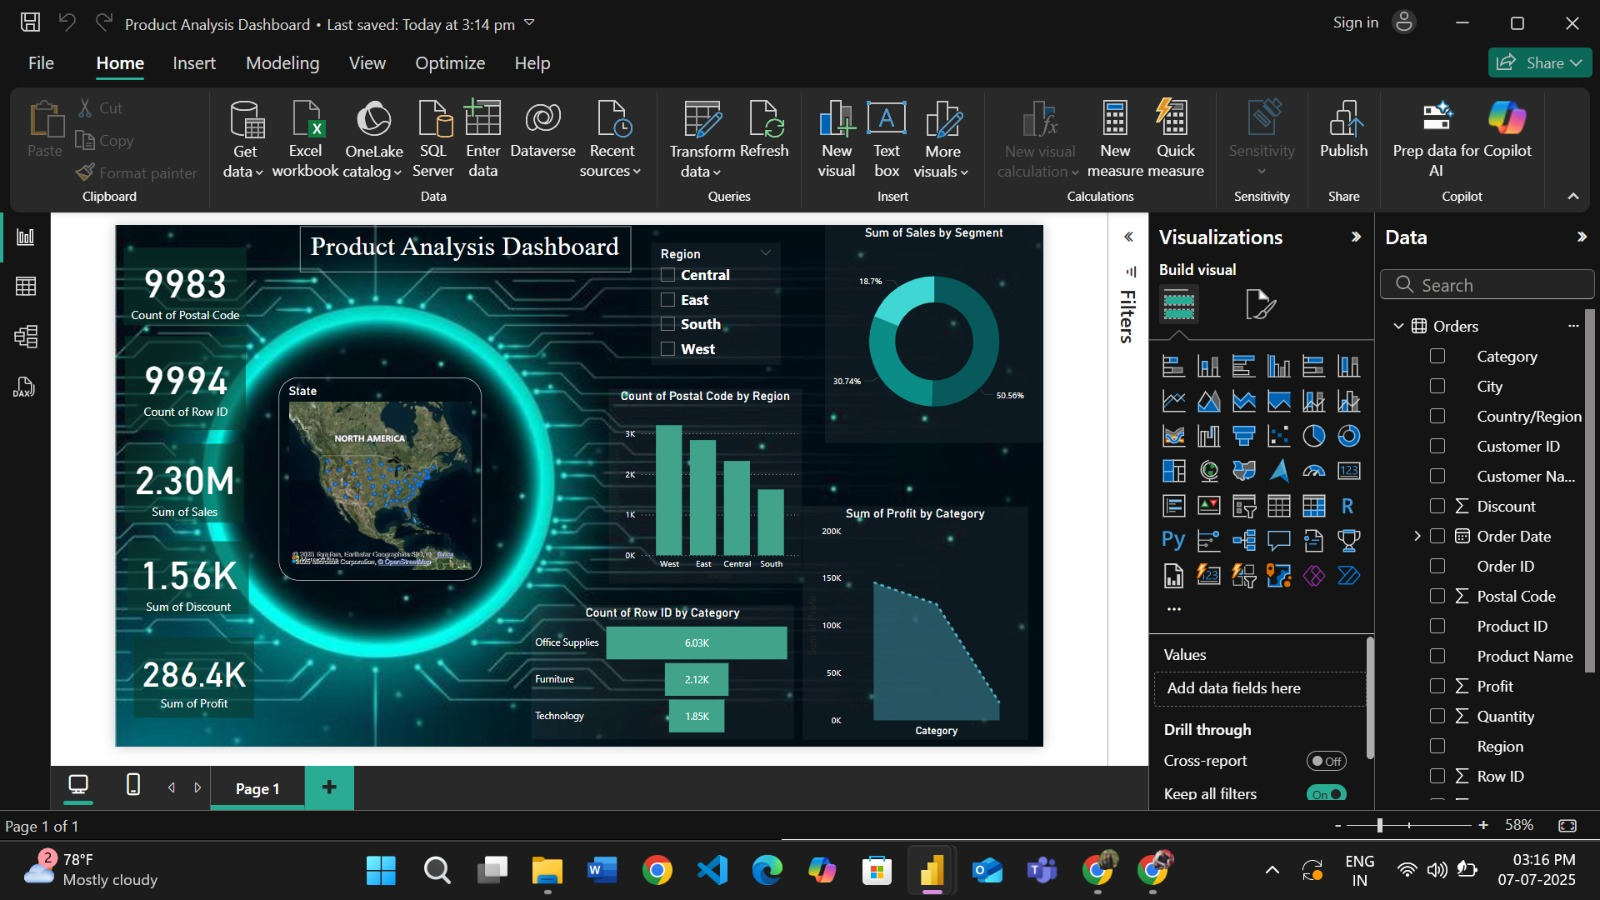

The dashboard page shown, as its layout file describes it:
{"tool":"powerbi","page":{"name":"Page 1","canvas":[1280,720],"ordinal":0},"visuals":[{"type":"map","fields":{"Category":["Orders.State"]},"box":[226.1,210.4,279.7,279.7],"z":0},{"type":"card","fields":{"Values":["Sum(Orders.Discount)"]},"box":[16.8,435.9,167.5,100.8],"z":1000},{"type":"card","fields":{"Values":["Sum(Orders.Sales)"]},"box":[13,300.9,164.3,108.4],"z":2000},{"type":"card","fields":{"Values":["Sum(Orders.Profit)"]},"box":[25.5,568.7,165.9,110.6],"z":3000},{"type":"card","fields":{"Values":["CountNonNull(Orders.Row ID)"]},"box":[13,152.9,167,129.6],"z":4000},{"type":"card","fields":{"Values":["CountNonNull(Orders.Postal Code)"]},"box":[12.5,31.4,169.2,107.4],"z":5000},{"type":"funnel","fields":{"Y":["CountNonNull(Orders.Row ID)"],"Category":["Orders.Category"]},"box":[574.2,523.7,362.7,185.4],"z":6000},{"type":"textbox","box":[255,1.7,456.7,63.3],"z":7000},{"type":"donutChart","fields":{"Y":["Sum(Orders.Sales)"],"Category":["Orders.Segment"]},"box":[979.1,0,300.9,300.9],"z":8000},{"type":"areaChart","fields":{"Category":["Orders.Category"],"Y":["Sum(Orders.Profit)"]},"box":[947.7,387.1,311.2,322.1],"z":9000},{"type":"columnChart","fields":{"Y":["CountNonNull(Orders.Postal Code)"],"Category":["Orders.Region"]},"box":[681.7,225,266.7,268.3],"z":10000},{"type":"slicer","fields":{"Values":["Orders.Region"]},"box":[740,25,178.3,168.3],"z":10001}]}

Visuals, with their boxes on the page's 1280x720 design canvas (x1, y1, x2, y2). These are canvas units, not pixel positions in the 1600x900 screenshot, which may show the page scaled, cropped or inside an application window:
map - Orders.State: 226:210:506:490
card - Sum(Orders.Discount): 17:436:184:537
card - Sum(Orders.Sales): 13:301:177:409
card - Sum(Orders.Profit): 26:569:191:679
card - CountNonNull(Orders.Row ID): 13:153:180:282
card - CountNonNull(Orders.Postal Code): 12:31:182:139
funnel - CountNonNull(Orders.Row ID) x Orders.Category: 574:524:937:709
textbox: 255:2:712:65
donutChart - Sum(Orders.Sales) x Orders.Segment: 979:0:1280:301
areaChart - Orders.Category x Sum(Orders.Profit): 948:387:1259:709
columnChart - CountNonNull(Orders.Postal Code) x Orders.Region: 682:225:948:493
slicer - Orders.Region: 740:25:918:193
